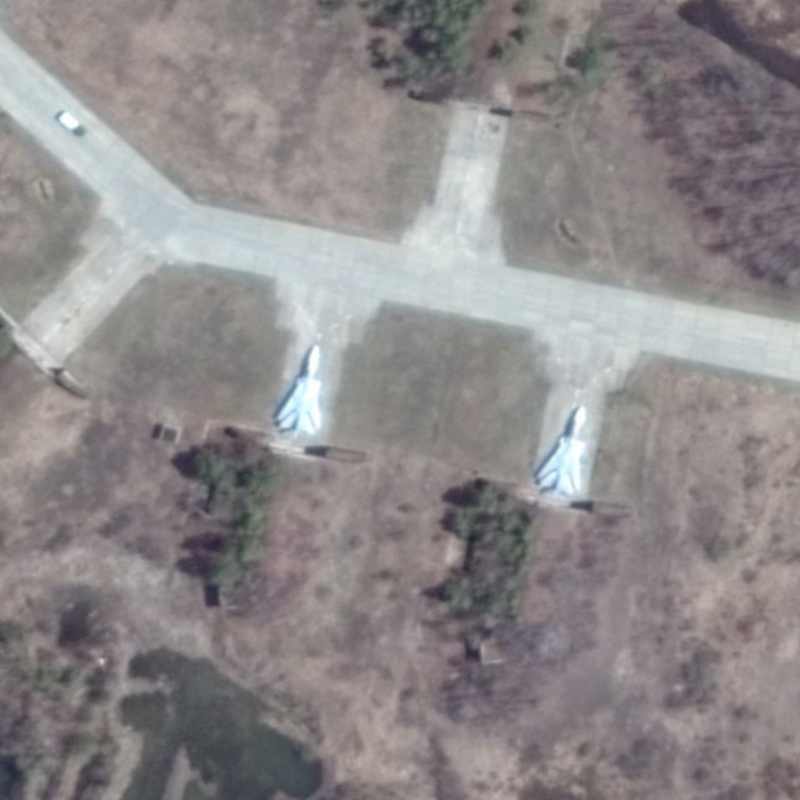A20: (535, 404, 589, 497), (274, 343, 324, 436)
